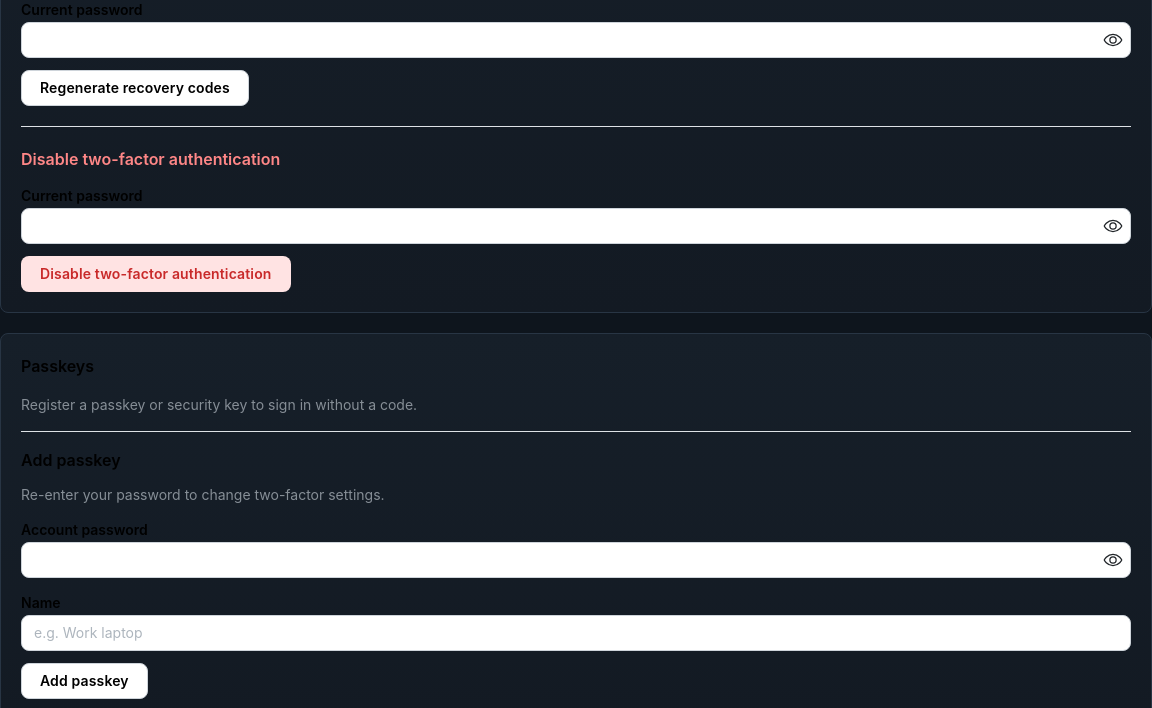
Test: MfaPanel — passkeys (WebAuthn) › adds a passkey: begin(with password) → complete → list refreshes
(page scrolled)
Expected: the element with test id "mfa-passkeys" is shown, [21,354,1131,699]
In the password field with test id "mfa-passkey-password": (576, 560) [22,543,1130,577], type "pw12345"
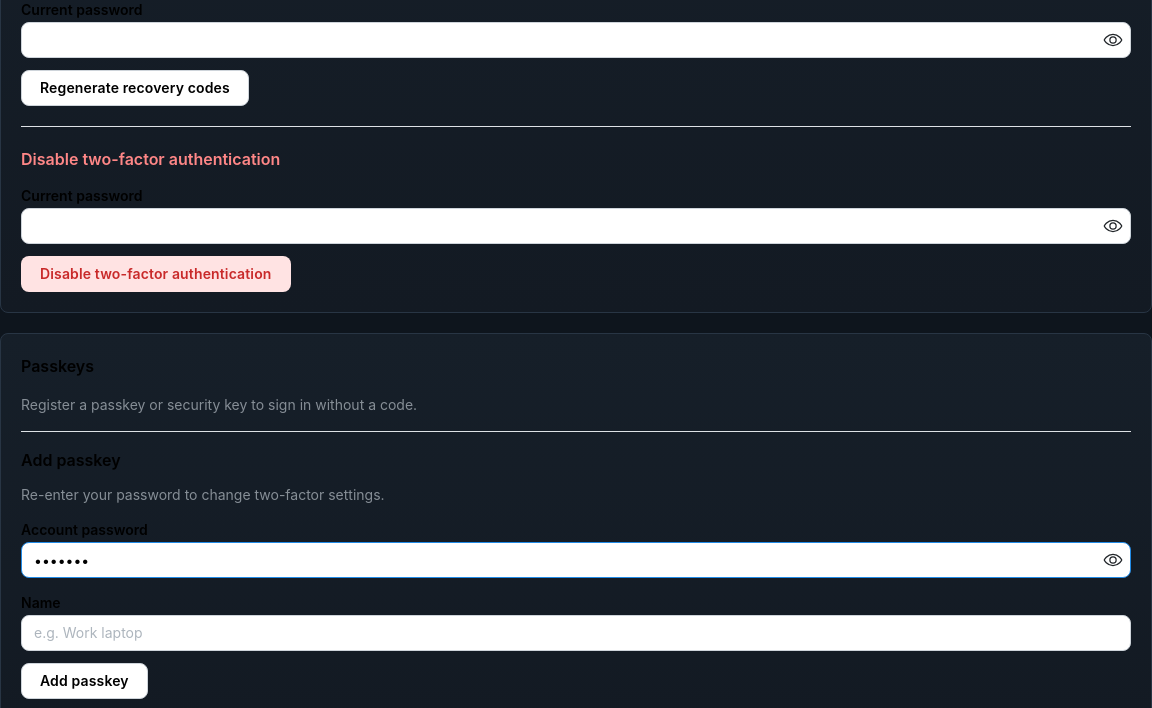
In the field with test id "mfa-passkey-name": (576, 633) [21,615,1131,651], type "Yubi"
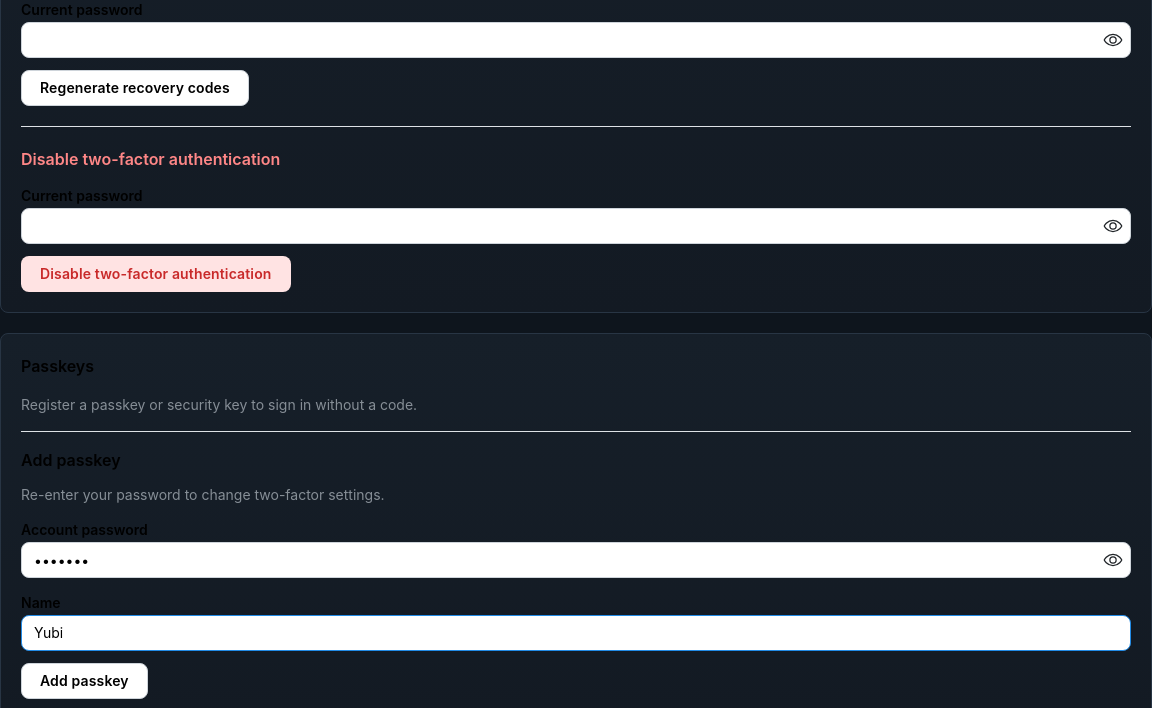
Click the button with test id "mfa-passkey-add": (84, 681) [21,663,148,699]
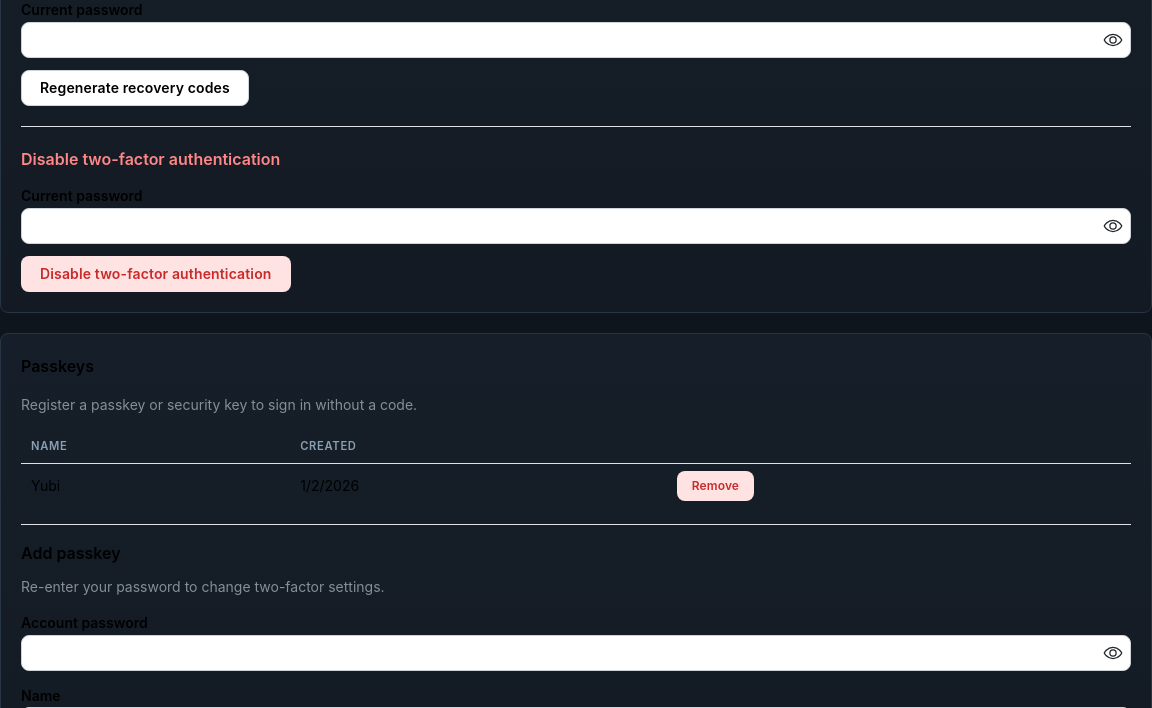
Now the cell "Yubi" is shown, box [21,463,290,508]
Now the row with test id "mfa-passkey-row-pk1" is shown, box [21,463,1131,508]
